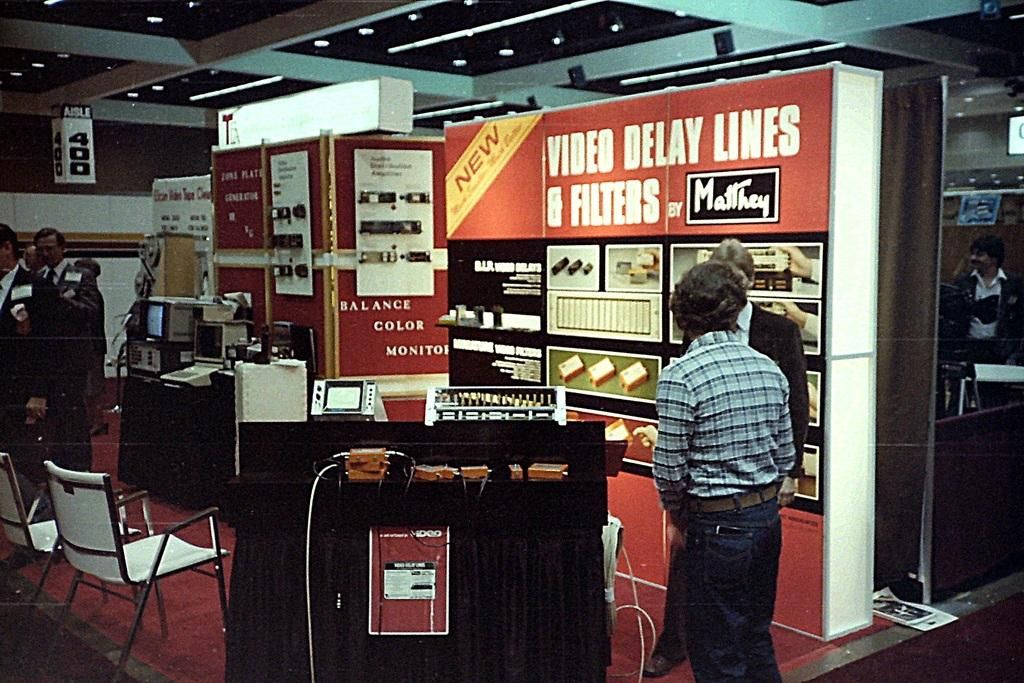Chair: (42, 458, 230, 681)
